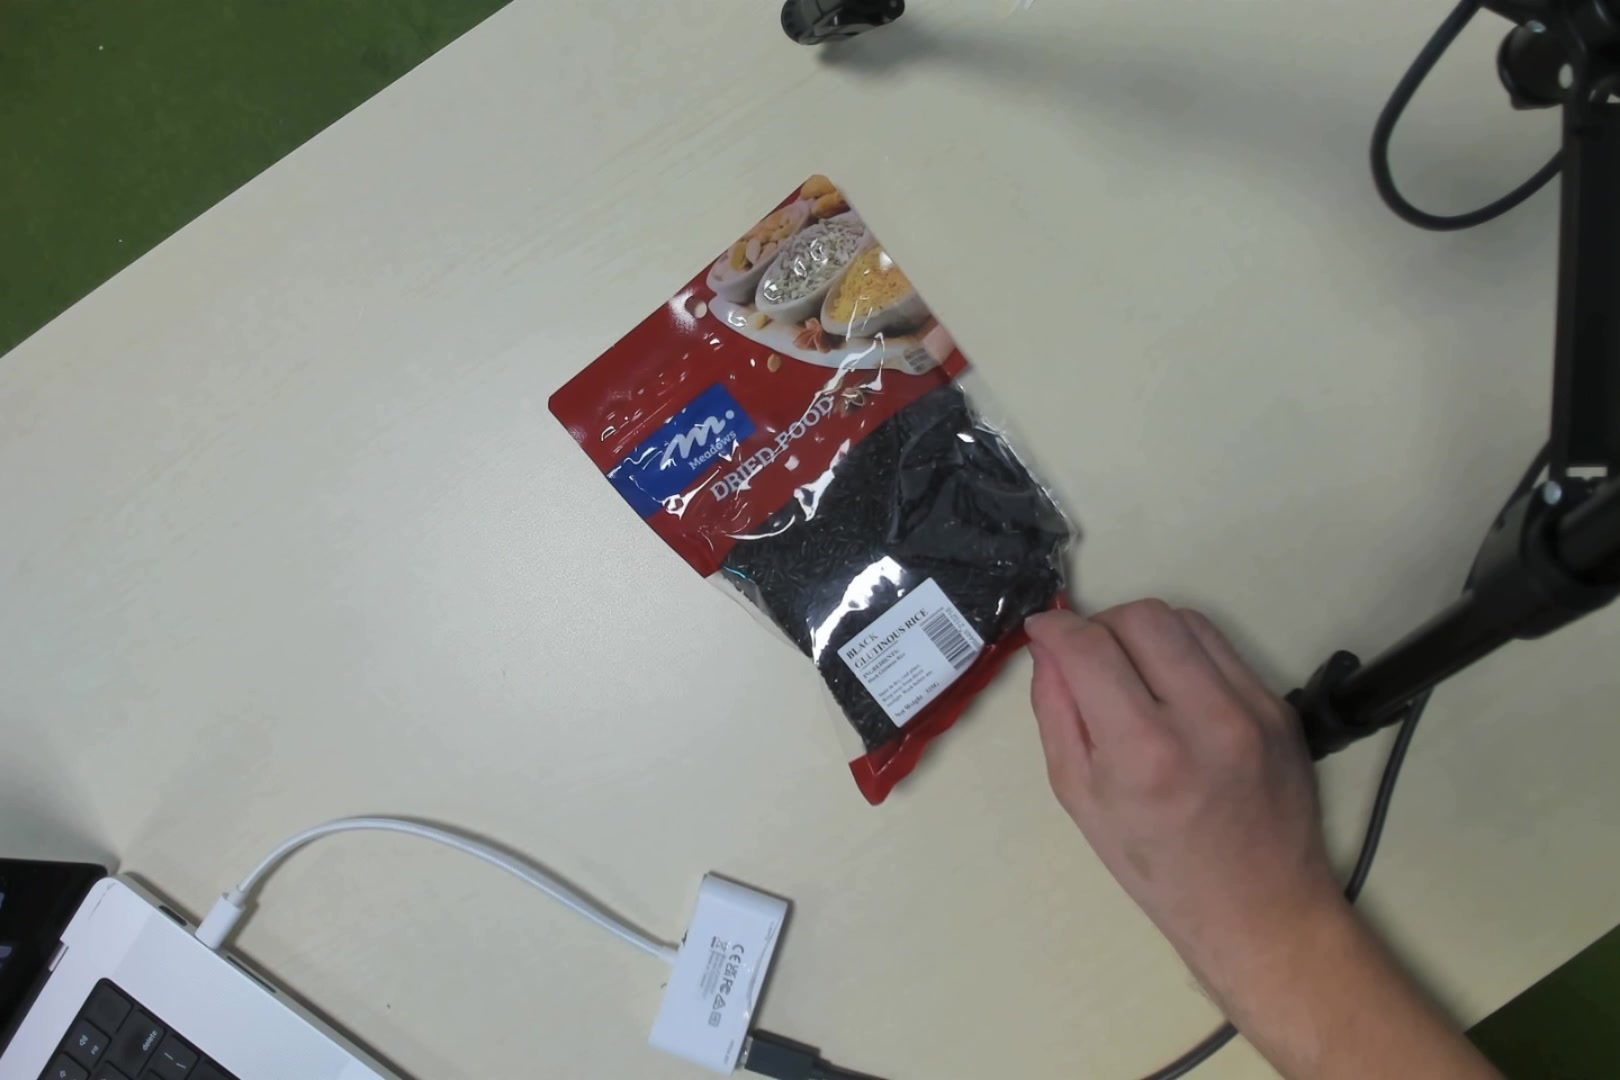OtherDriedFood_100-199g_NonHalal_NonHealthy: (634, 245, 1076, 761)
